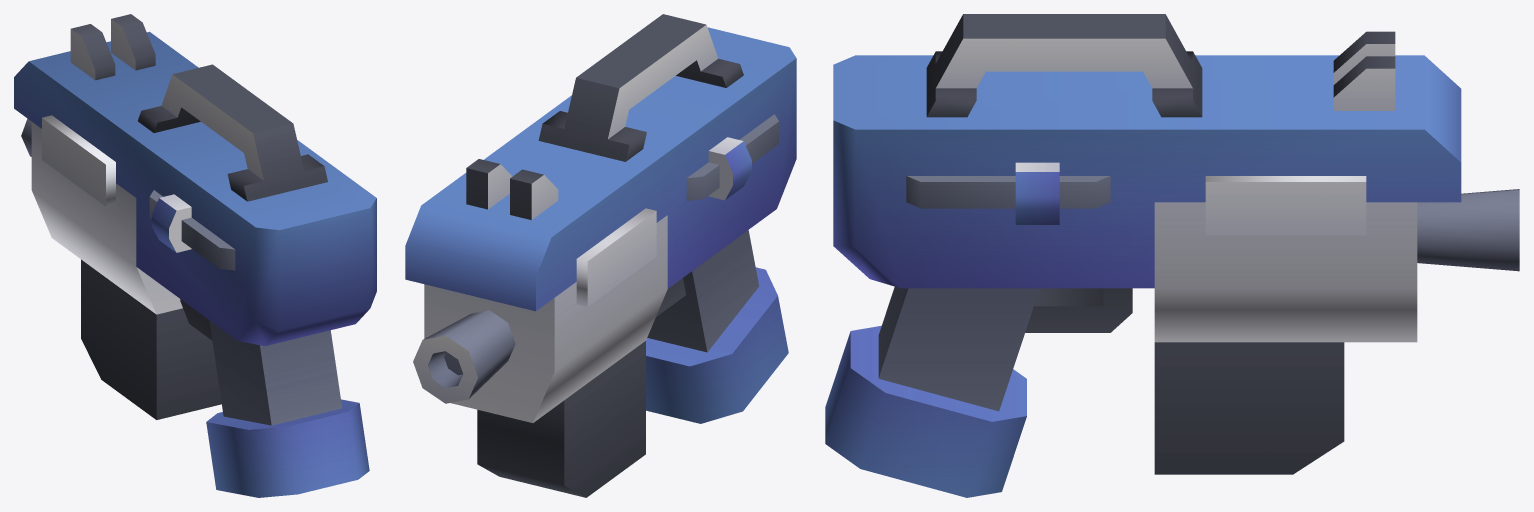
File: blaster-c.glb
3 renders of one model, left to right at view 1: azimuth 30°, elevation 25°; view 2: azimuth 150°, elevation 25°; view 3: azimuth 270°, elevation 25°, orthographic. The views are drawn at different scales.
Parts seen in each view (by area): view 1: blaster-c; view 2: blaster-c; view 3: blaster-c.
Part boxes in pixels (bbox=[...]): blaster-c: bbox=[14, 14, 376, 497]; blaster-c: bbox=[405, 14, 796, 497]; blaster-c: bbox=[825, 14, 1519, 497].
Bounding box in the file's own units: 0.165 × 0.3379 × 0.4754.
1 material, 1 textured.
